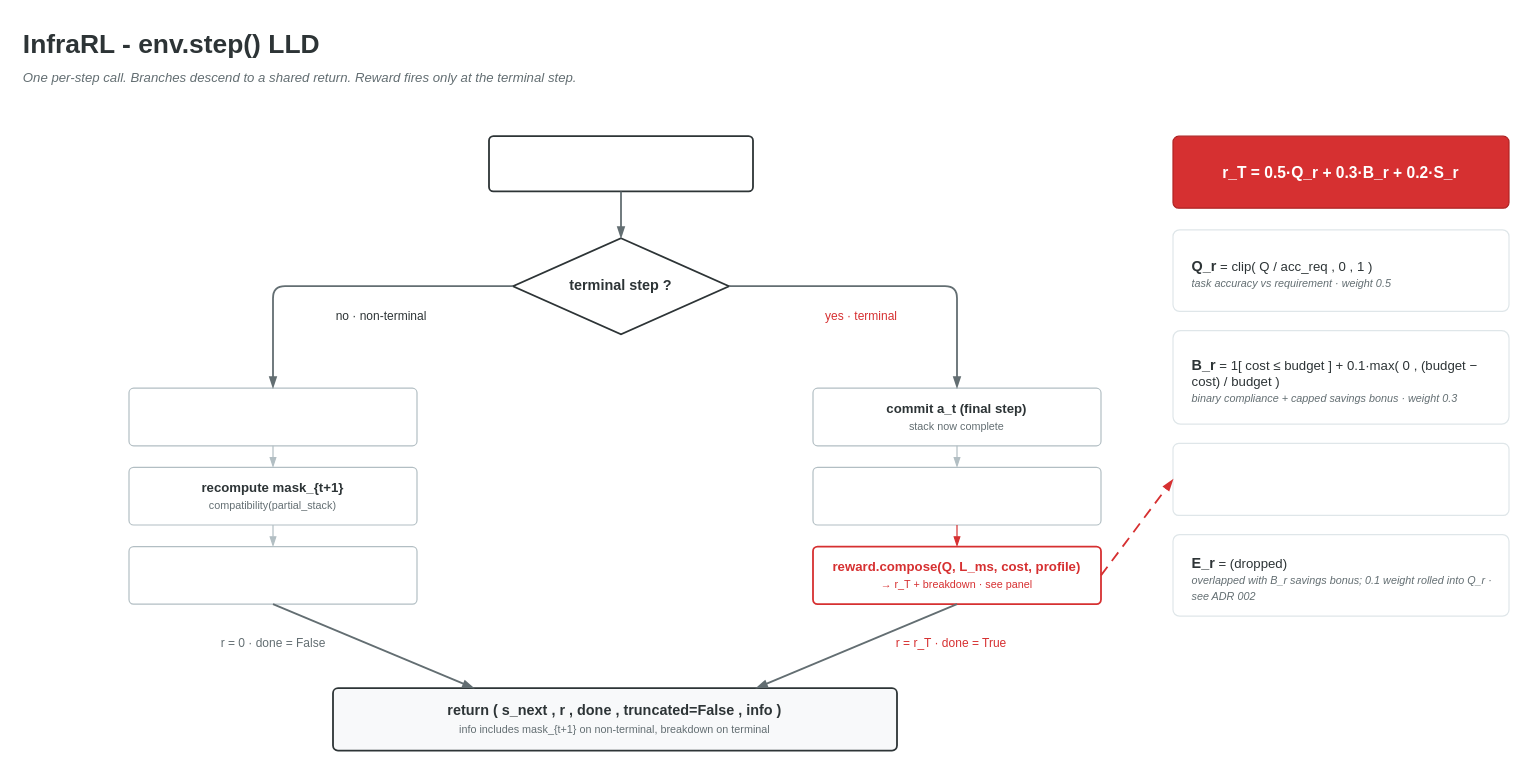
Some shapes in this 1530 by 772 pixel diagram are drawn without their labels. The box of each missing label's shape, as (x1, y1, x2, y2) in pixels:
assemble s_{t+1} profile ⊕ next_step ⊕ stack: (128, 545, 417, 604)
commit a_t partial_stack[step_type][tier] ← a_t: (128, 387, 417, 446)
env.step(a_t): (488, 135, 753, 192)
S_r = 1[ L_ms ≤ sla_ms ] binary latency SLA · weight 0.2: (1172, 442, 1509, 515)
simulator.estimate (stack, profile) → Q, L_ms, cost: (812, 466, 1101, 525)
